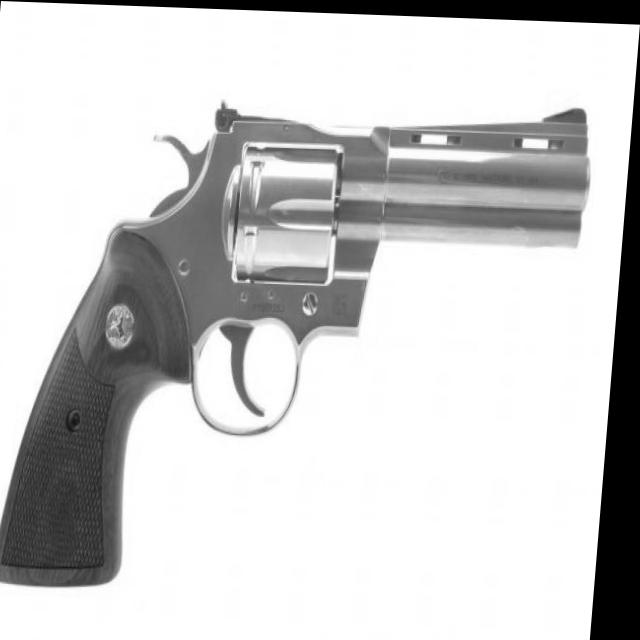handgun: (0, 82, 600, 611)
